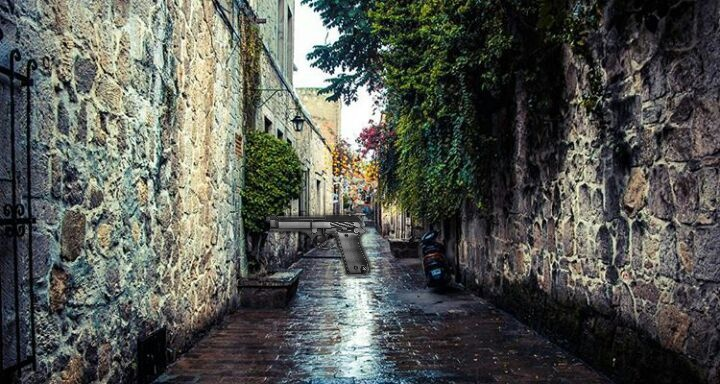gun.png: (263, 211, 373, 279)
